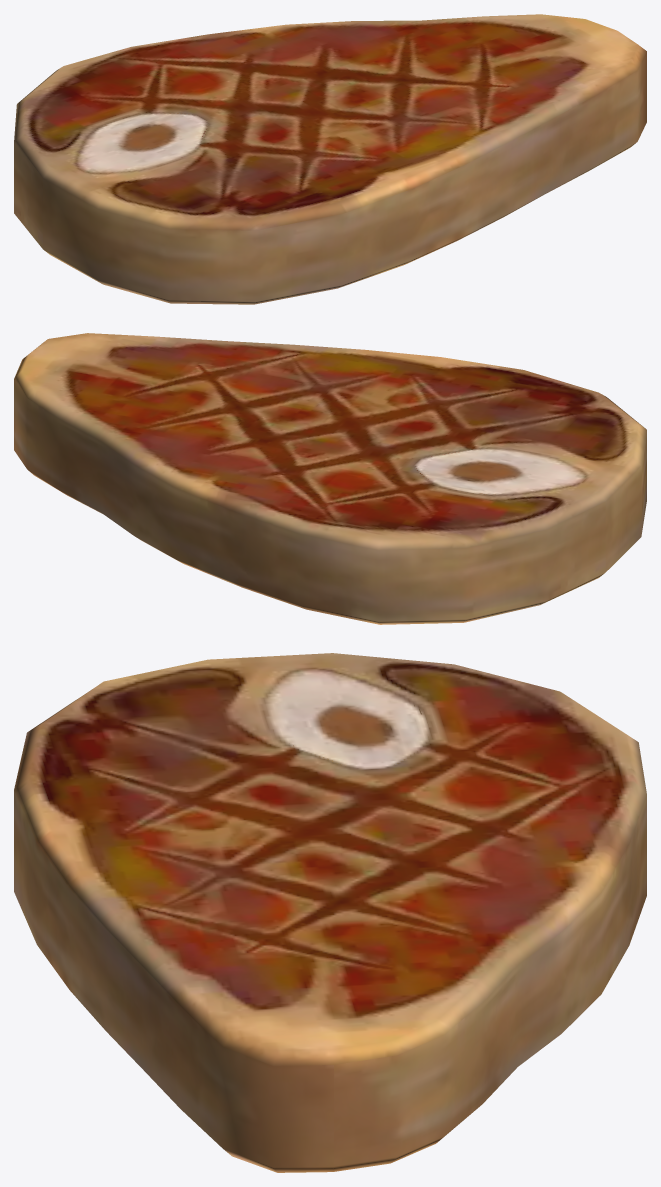
3 views of the same model, one above another, from view 1: azimuth 30°, elevation 25°; view 2: azimuth 150°, elevation 25°; view 3: azimuth 270°, elevation 25° (orthographic). The views are drawn at different scales.
Visible parts, largest first — view 1: SM_Cooked_Mutton_01_LOD0; view 2: SM_Cooked_Mutton_01_LOD0; view 3: SM_Cooked_Mutton_01_LOD0.
Boxes of the visible parts, x1=… form: SM_Cooked_Mutton_01_LOD0: x1=14, y1=14, x2=646, y2=304; SM_Cooked_Mutton_01_LOD0: x1=14, y1=333, x2=646, y2=624; SM_Cooked_Mutton_01_LOD0: x1=14, y1=653, x2=646, y2=1172.
Size of the model in its own units: 0.3101 by 0.0435 by 0.2036.
1 material, 1 textured.
